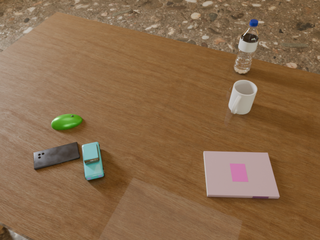book: (204, 151, 279, 198)
bottle: (233, 19, 259, 74)
cup: (229, 80, 257, 114)
mouse: (51, 114, 82, 130)
phone: (34, 142, 80, 170)
toy_car: (82, 142, 104, 180)
